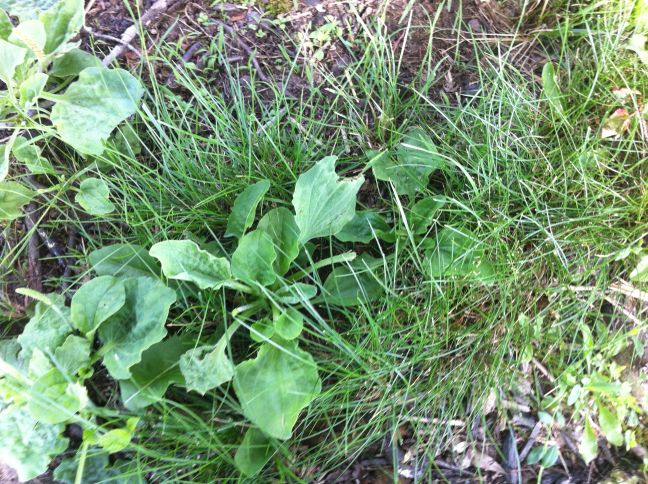weed1: (74, 182, 398, 448), (1, 261, 170, 480), (303, 131, 499, 316), (1, 3, 160, 209)
